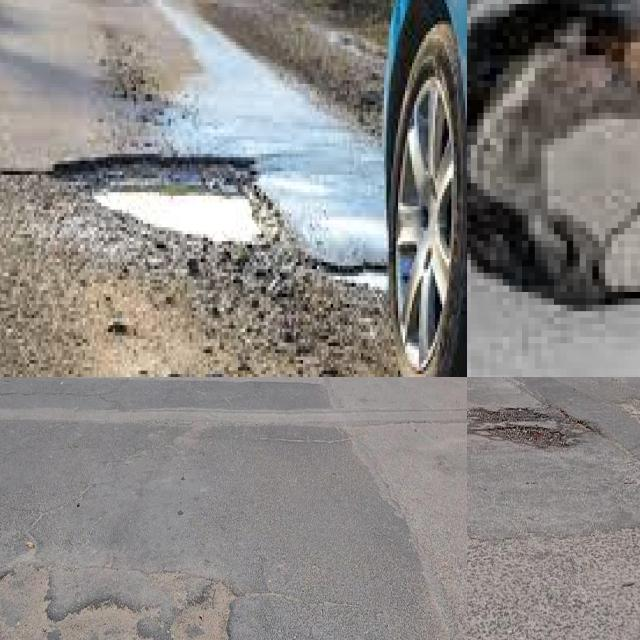Pothole: (0, 157, 398, 377), (160, 572, 238, 640), (44, 596, 161, 640), (475, 427, 563, 448), (467, 406, 550, 424)
Unmarked Bump: (509, 377, 640, 460)
